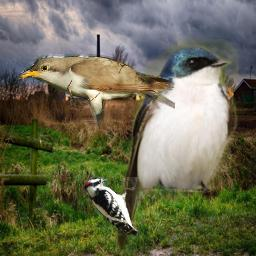Cuckoo: (17, 54, 175, 129)
Swallow: (116, 37, 239, 251)
Woodpecker: (84, 177, 138, 236)
